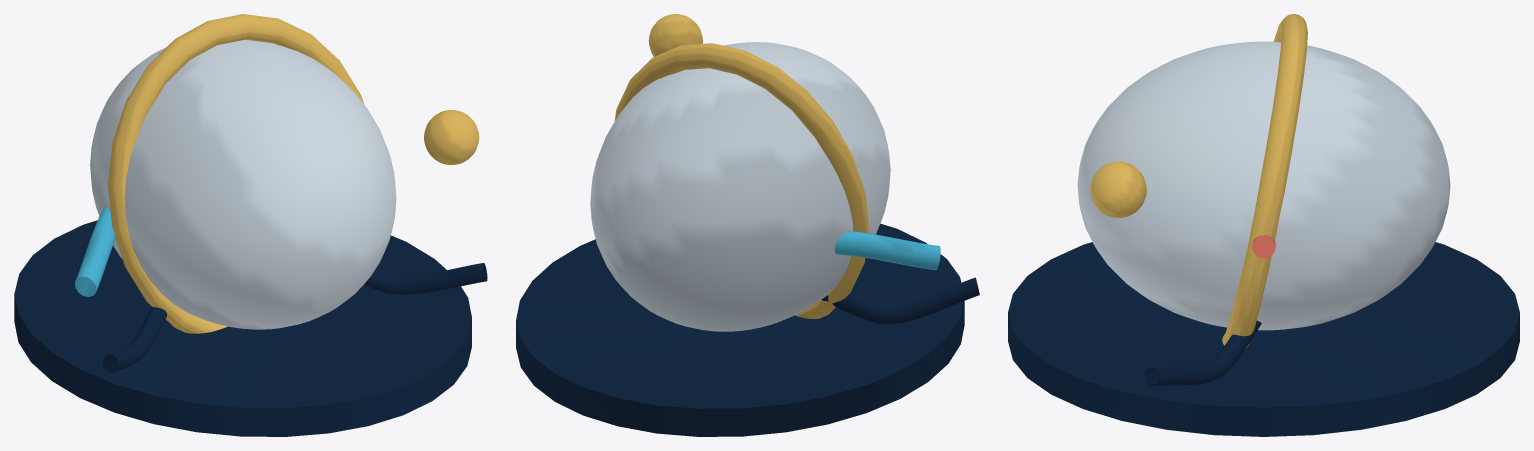
File: 1211_细胞图鉴_核膜.glb
3 views of the same model, side by side, from view 1: azimuth 30°, elevation 25°; view 2: azimuth 150°, elevation 25°; view 3: azimuth 270°, elevation 25° (orthographic). The views are drawn at different scales.
Visible parts, largest first — view 1: card_1211; view 2: card_1211; view 3: card_1211.
Part boxes in pixels (bbox=[...]): card_1211: bbox=[14, 14, 487, 436]; card_1211: bbox=[516, 14, 979, 436]; card_1211: bbox=[1008, 14, 1519, 436].
Bounding box in the file's own units: 1.31 × 1 × 1.49.
